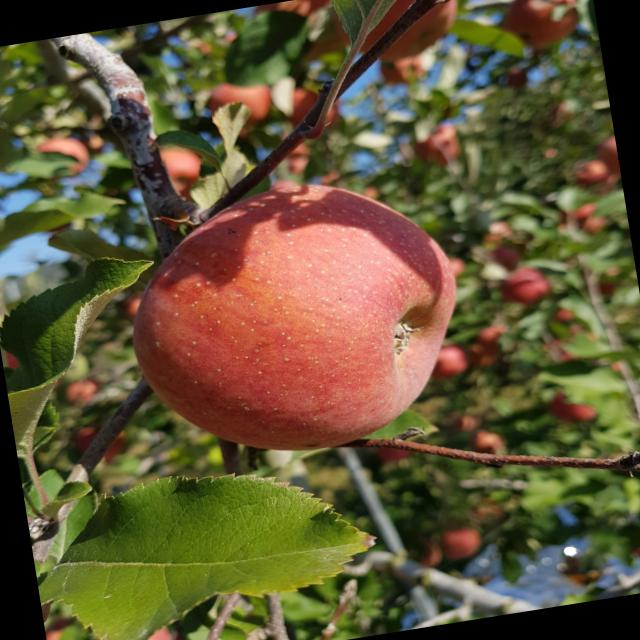fresh: (107, 156, 492, 483)
